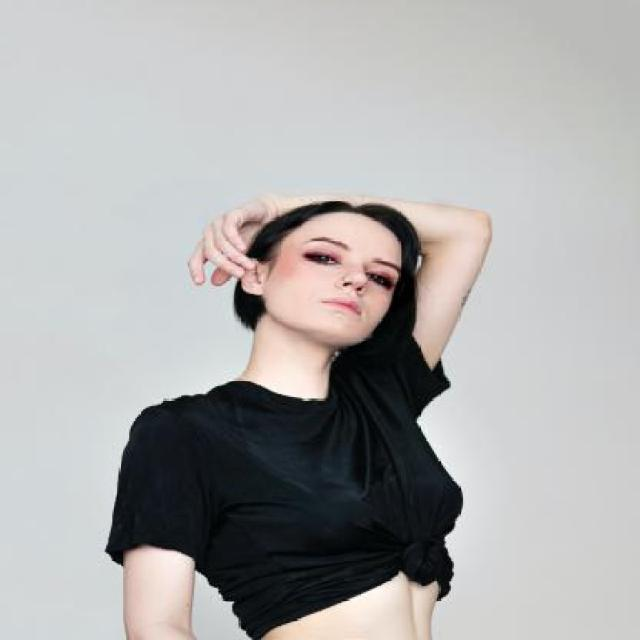closed-mouth: (320, 295, 362, 317)
